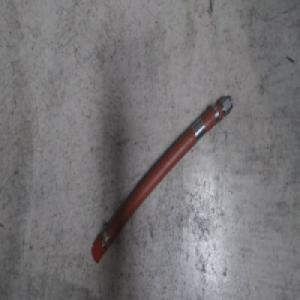Hose: (89, 92, 233, 266)
